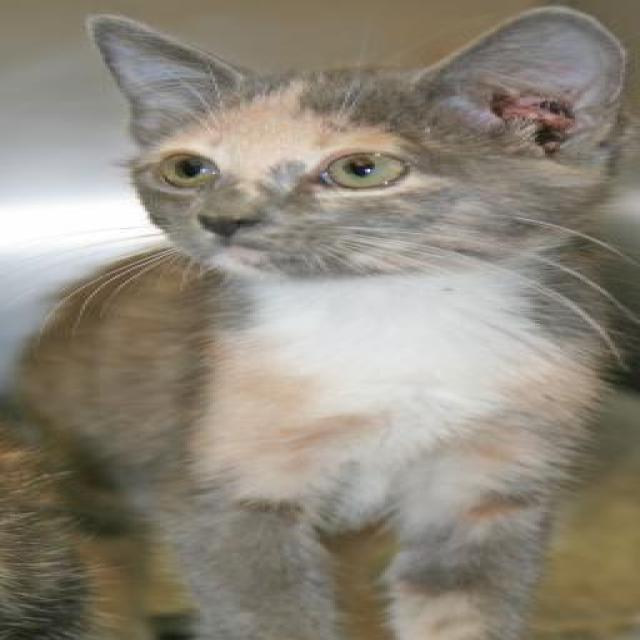Cats: (0, 4, 638, 639)
